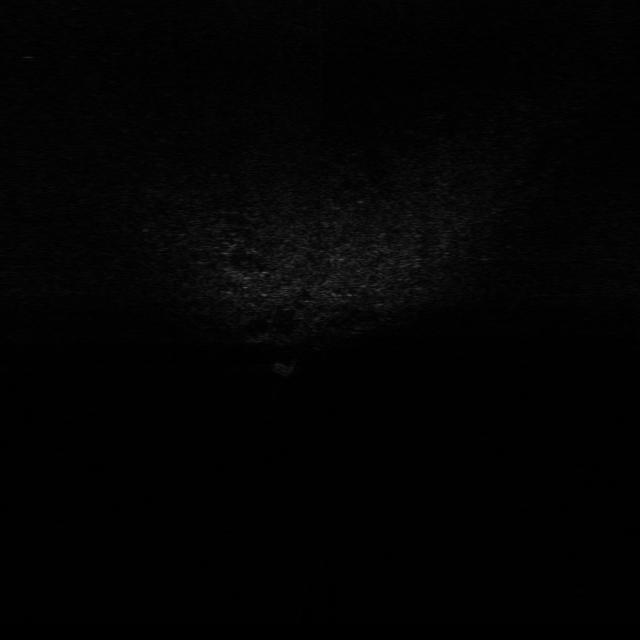cube: (270, 356, 296, 378)
